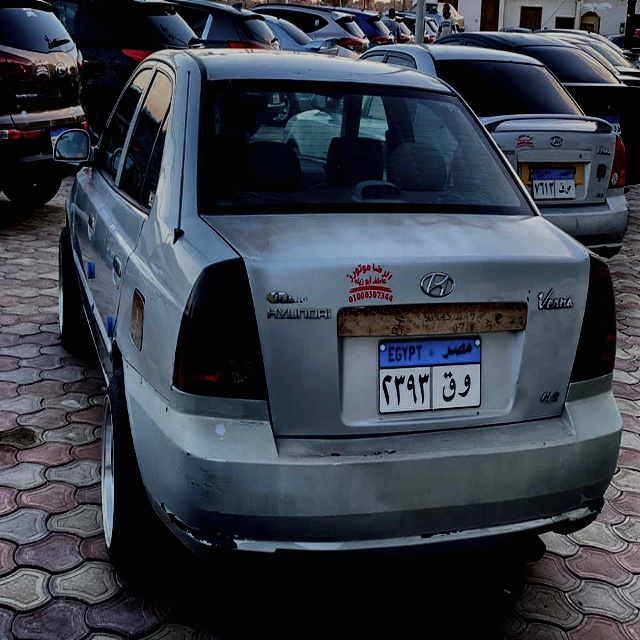License Plate: (377, 333, 483, 416)
